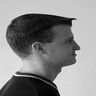ear: (26, 38, 52, 59)
